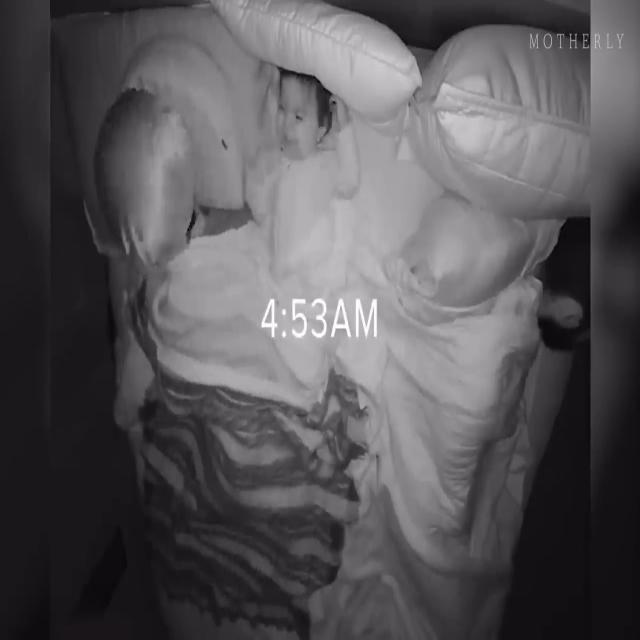baby: (246, 67, 359, 284)
